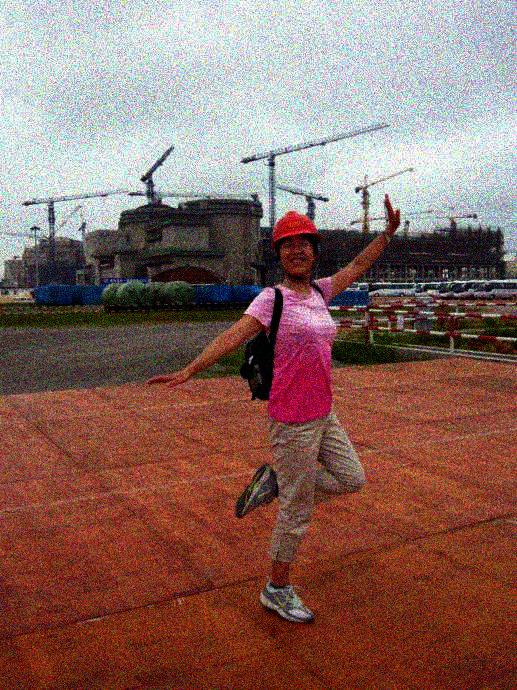helmet: (270, 207, 321, 277)
